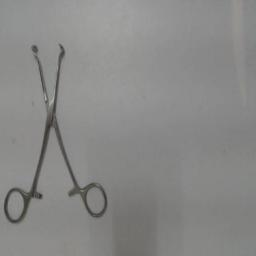Babcock Tissue Forceps: (2, 40, 110, 226)
